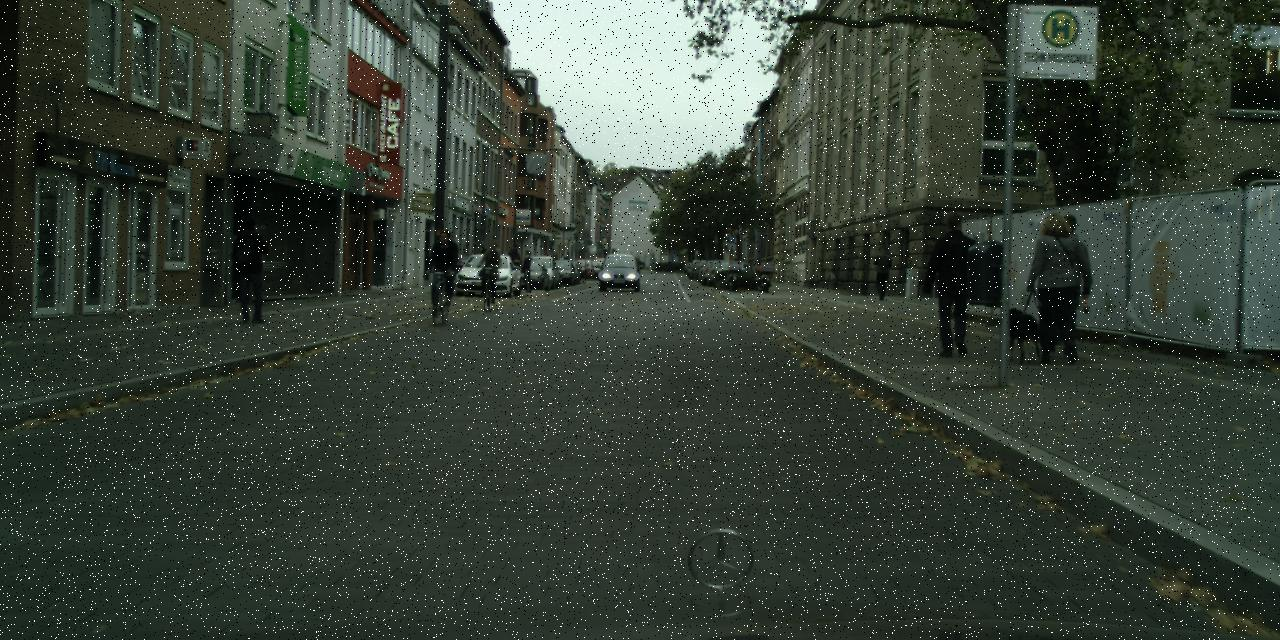ped: (1026, 212, 1088, 363), (926, 213, 983, 356), (1036, 213, 1093, 353), (230, 217, 272, 322), (428, 228, 458, 306), (479, 240, 503, 300), (872, 246, 892, 300), (505, 244, 523, 287), (518, 250, 536, 292), (474, 248, 490, 286)
